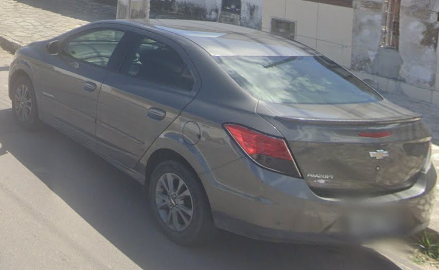car: (6, 16, 436, 253)
